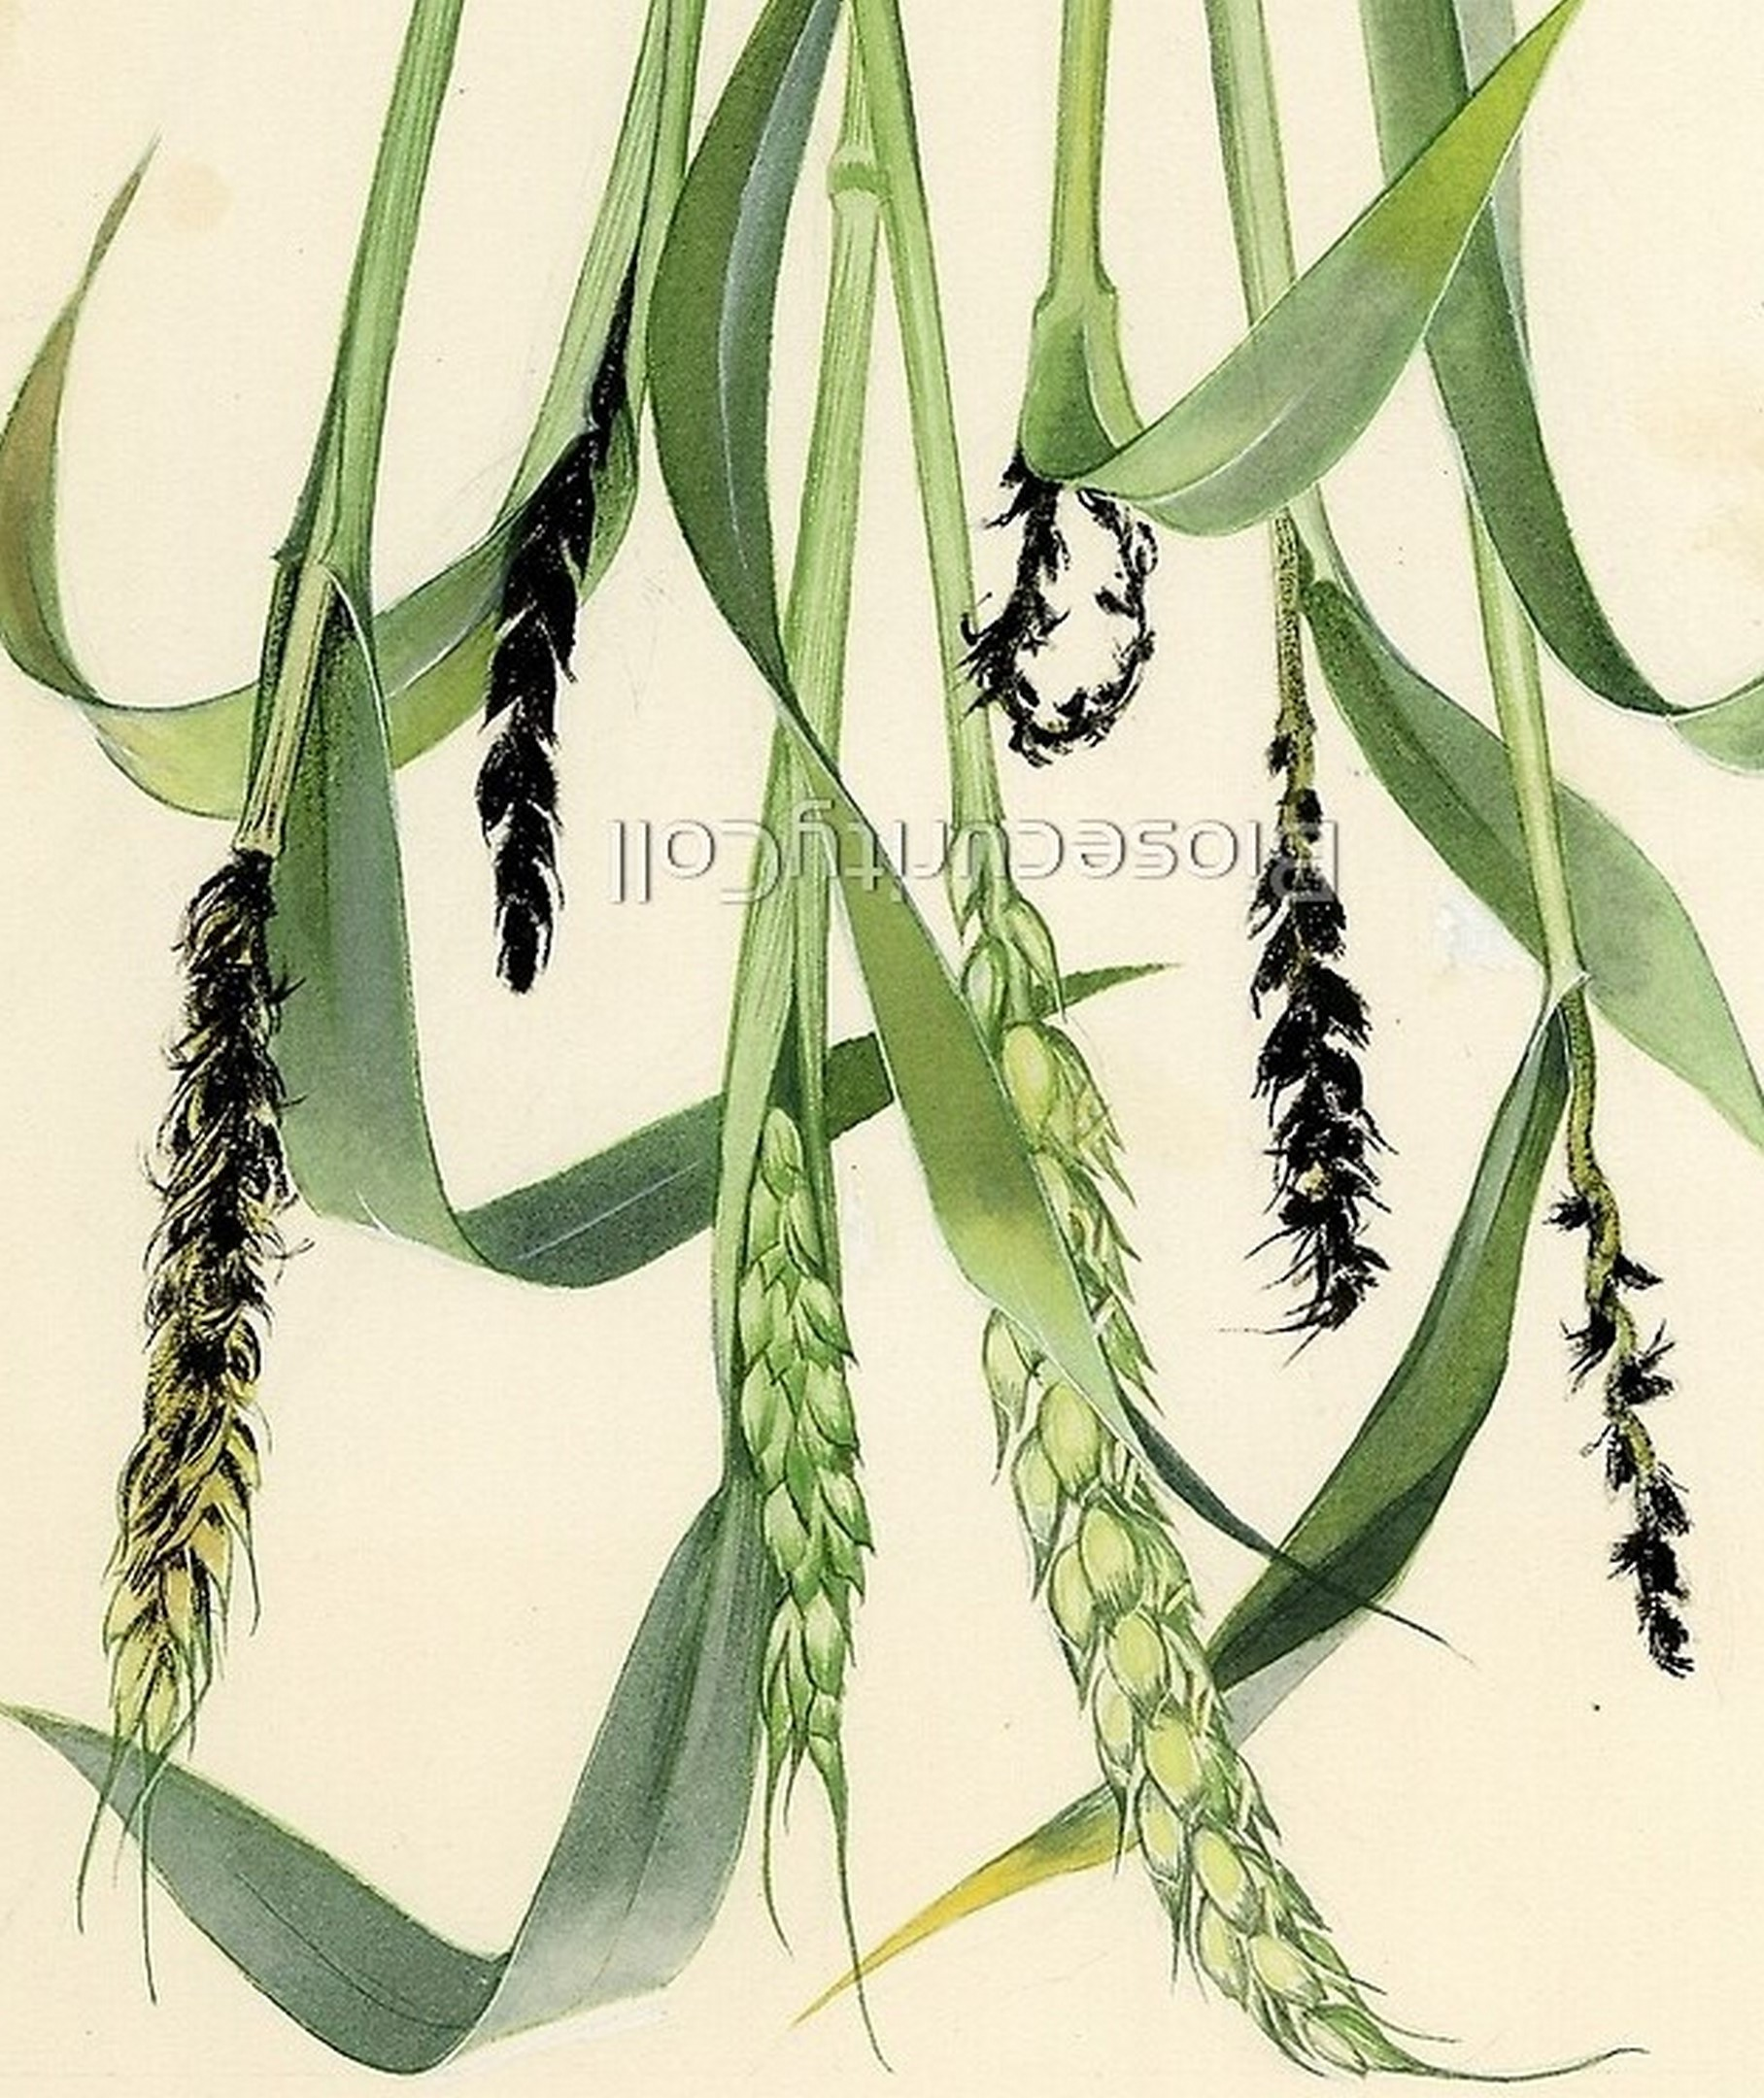Wheat Loose Smut: (448, 392, 665, 1015), (1242, 721, 1445, 1351)
